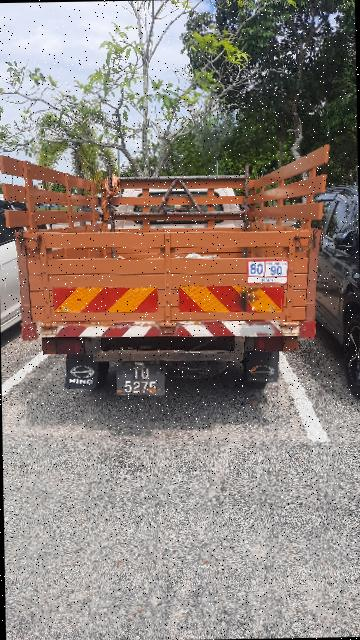License_Plate: (110, 364, 172, 401)
lorry: (1, 133, 340, 407)
